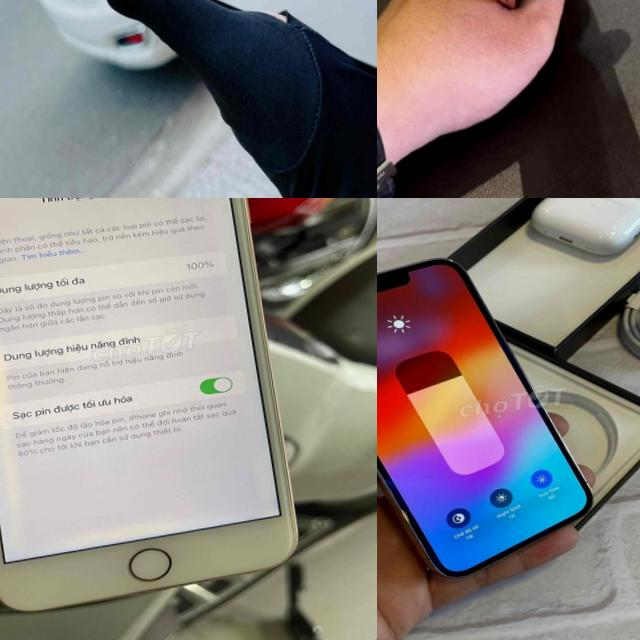gen_12_13: (377, 241, 603, 597), (66, 0, 377, 142)
gen_7_8: (0, 198, 296, 610)
